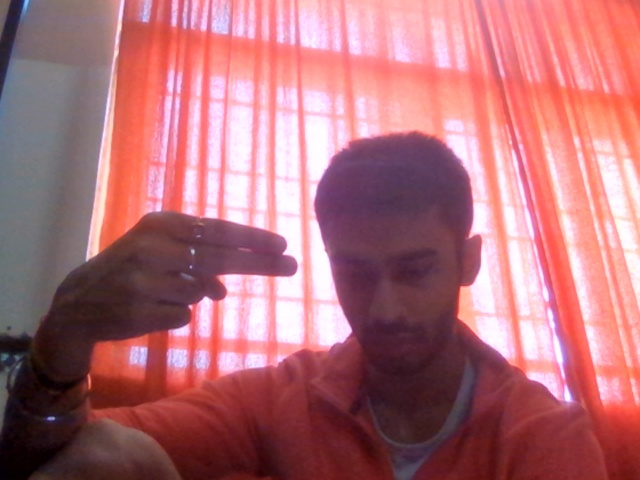H: (22, 182, 309, 414)
